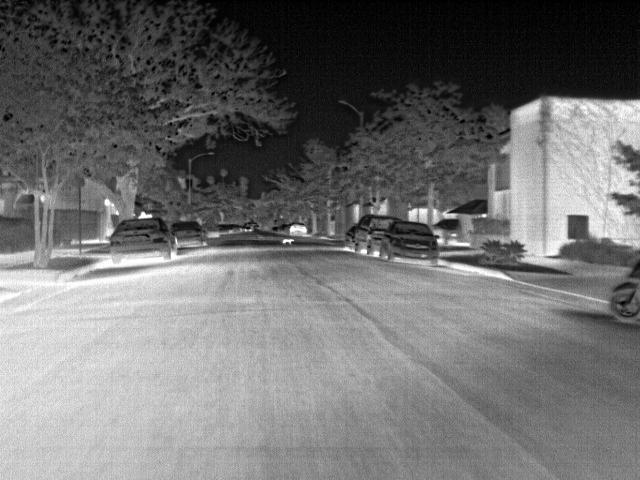car: (110, 216, 179, 260), (380, 222, 439, 266), (365, 217, 402, 257), (171, 222, 209, 250), (352, 216, 368, 252), (288, 222, 309, 236)
